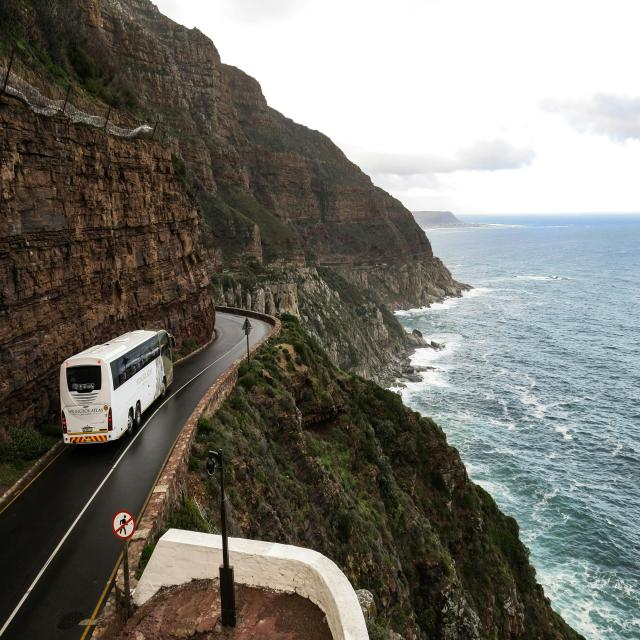bus: (60, 328, 176, 443)
